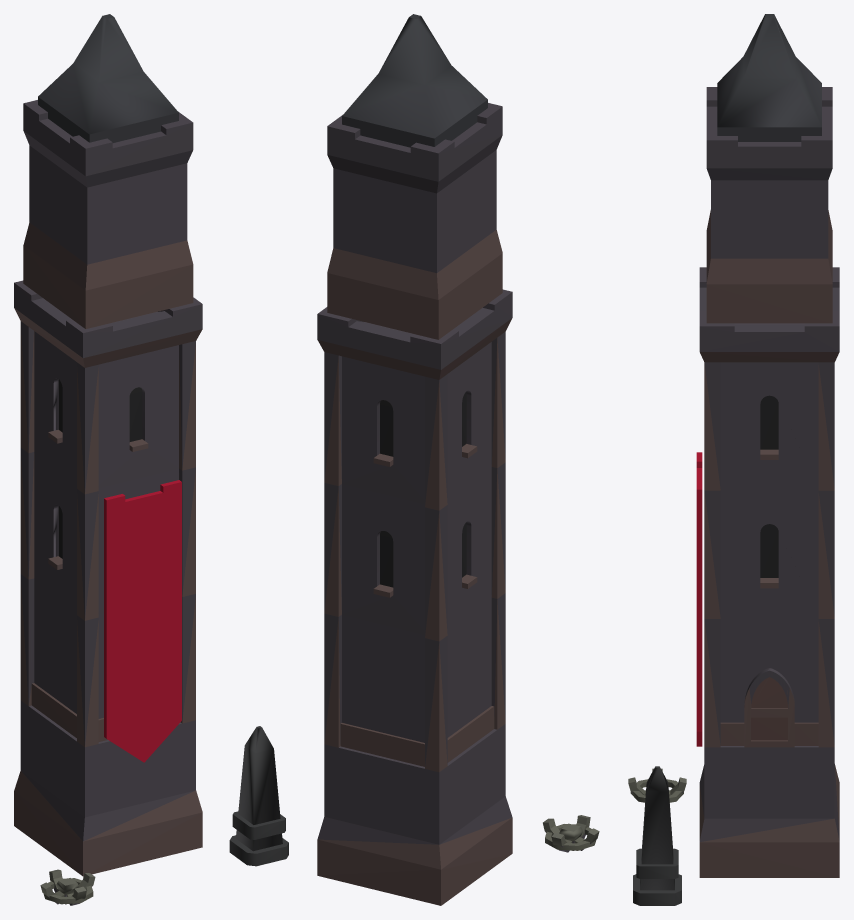
File: ntower_l3.glb
The picture shows the model from 3 angles, left to right: view 1: azimuth 30°, elevation 25°; view 2: azimuth 150°, elevation 25°; view 3: azimuth 270°, elevation 25°; orthographic projection. The views are drawn at different scales.
Parts seen in each view (by area): view 1: ntower_l3; view 2: ntower_l3; view 3: ntower_l3.
Part boxes in pixels (bbox=[...]): ntower_l3: bbox=[14, 14, 288, 905]; ntower_l3: bbox=[317, 14, 599, 905]; ntower_l3: bbox=[628, 14, 839, 905].
Size of the model in its own units: 3.17 by 10.48 by 2.41.
